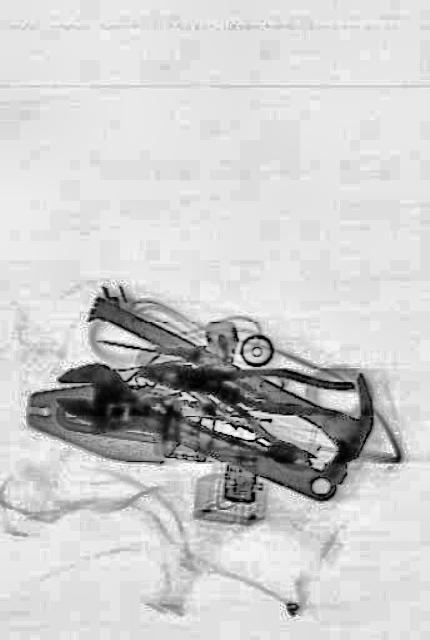Pliers: (136, 342, 354, 423)
Wrench: (47, 345, 342, 525)
